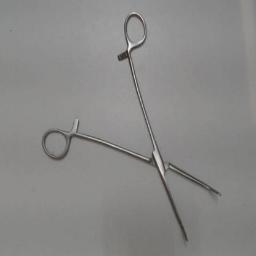Lahey Forceps: (36, 10, 228, 250)
